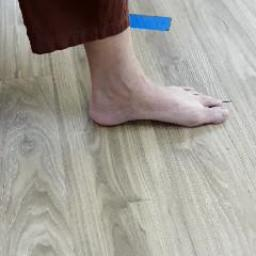Medial View -Left Foot-: (72, 48, 242, 143)
